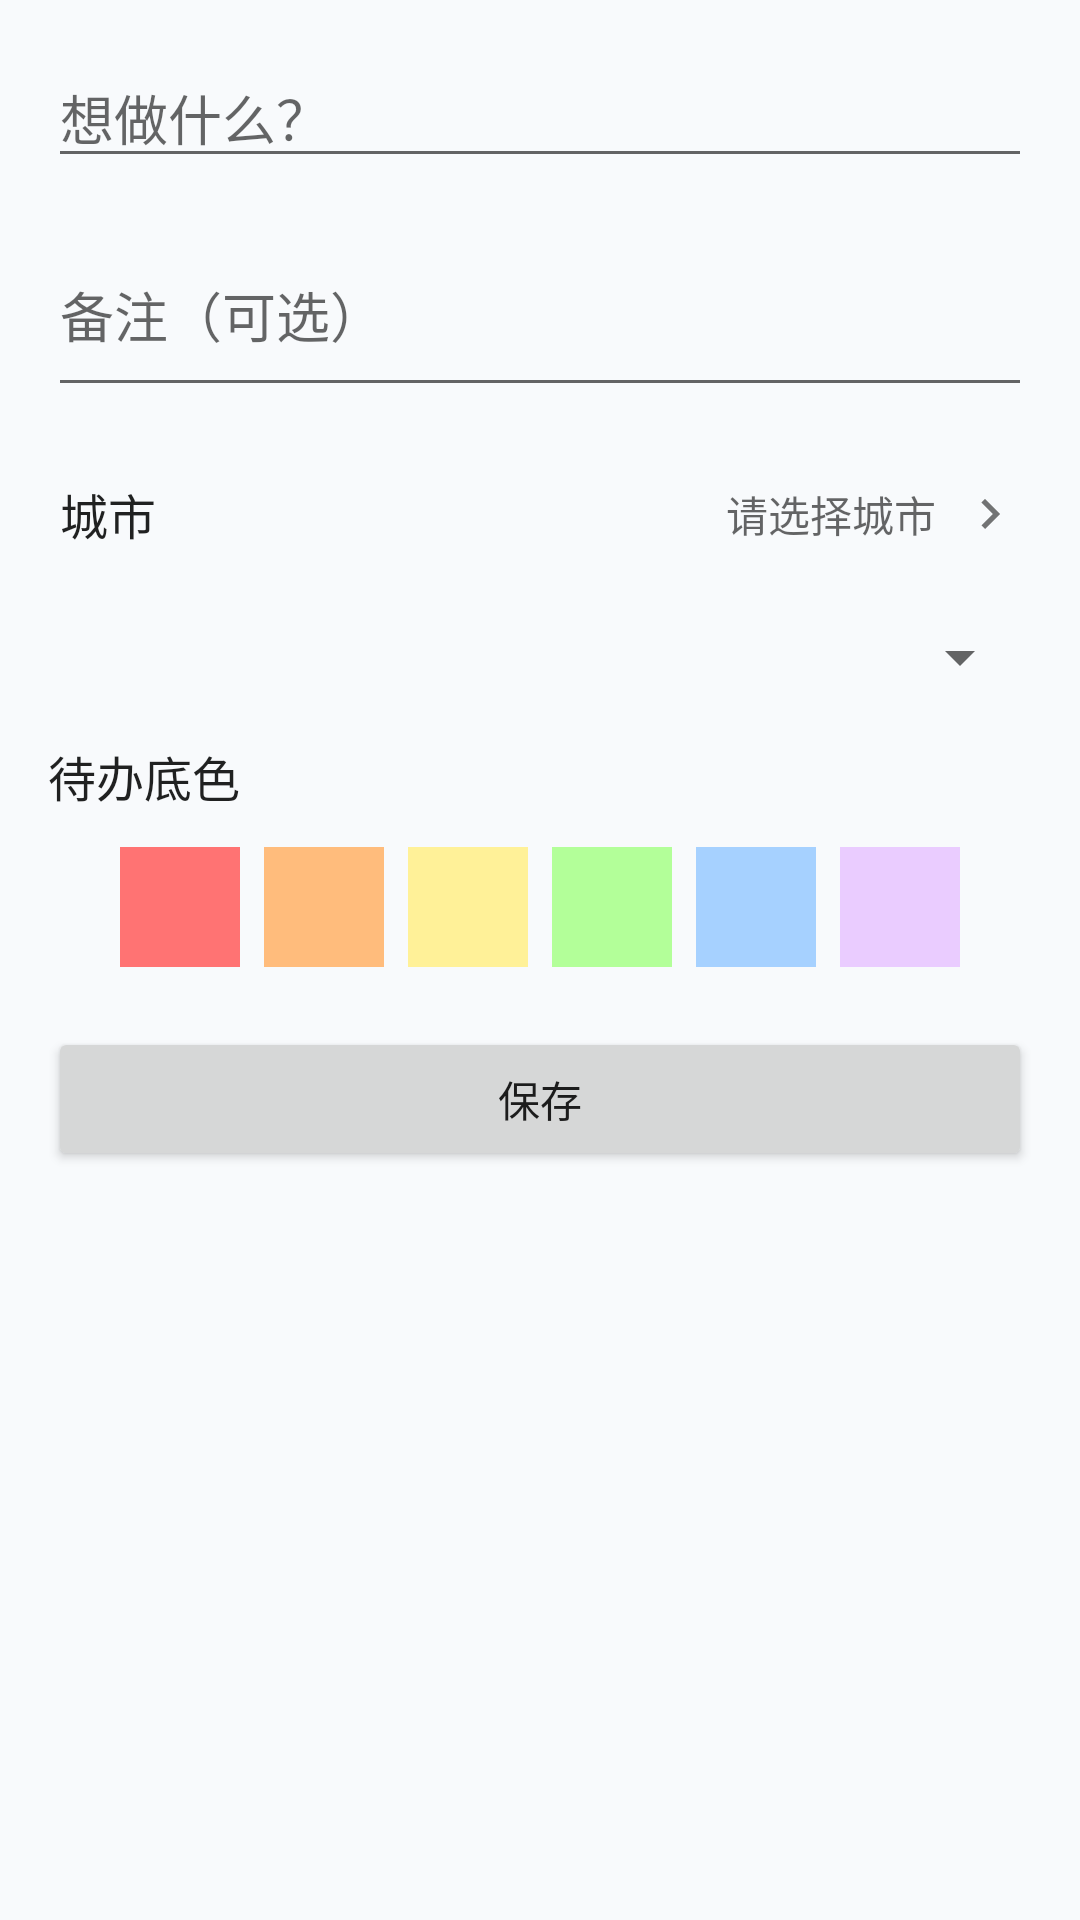

Icon bounding boxes for this 1080w x 1920h phone screenshot, format (x1,y1,x2,y2):
chevron right: (981,499,1000,529)
